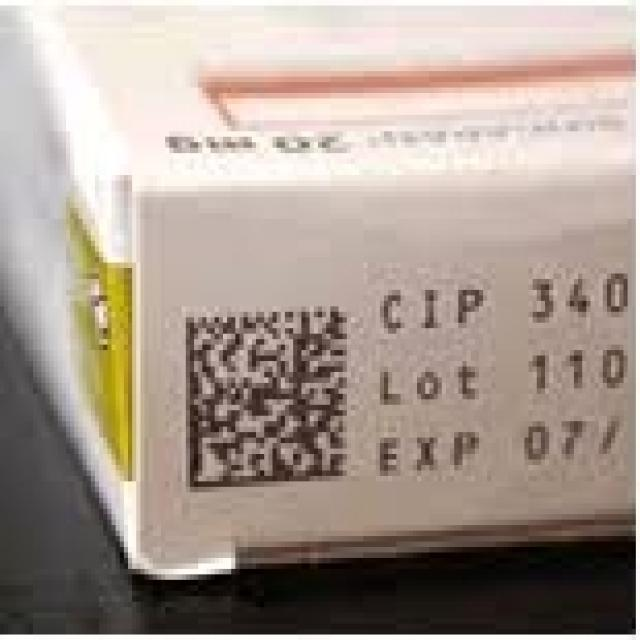datamatrix: (174, 296, 355, 492)
